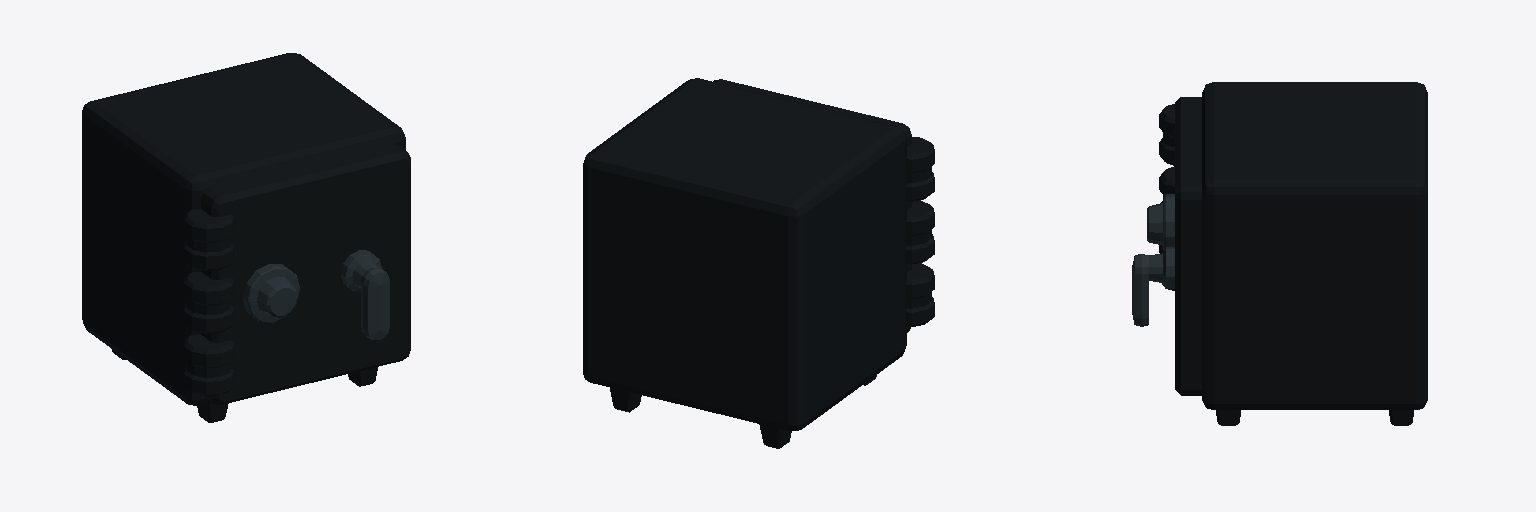
Rendered from safe.obj.
The picture shows the model from 3 angles: view 1: azimuth 30°, elevation 25°; view 2: azimuth 150°, elevation 25°; view 3: azimuth 270°, elevation 25°; orthographic projection.
Parts seen in each view (by area): view 1: Safe_Cube.473, Safe_Door_Cube.474, Safe_Door_Handle_Cube.475; view 2: Safe_Cube.473, Safe_Door_Cube.474; view 3: Safe_Cube.473, Safe_Door_Cube.474, Safe_Door_Handle_Cube.475.
Boxes of the visible parts, x1=… form: Safe_Cube.473: x1=82, y1=53, x2=405, y2=422; Safe_Door_Cube.474: x1=184, y1=144, x2=410, y2=404; Safe_Door_Handle_Cube.475: x1=341, y1=250, x2=389, y2=339; Safe_Cube.473: x1=583, y1=78, x2=906, y2=448; Safe_Door_Cube.474: x1=713, y1=79, x2=934, y2=332; Safe_Cube.473: x1=1202, y1=82, x2=1427, y2=425; Safe_Door_Cube.474: x1=1147, y1=97, x2=1201, y2=395; Safe_Door_Handle_Cube.475: x1=1132, y1=247, x2=1174, y2=326.
Size of the model in its own units: 1.54 by 1.63 by 1.71.